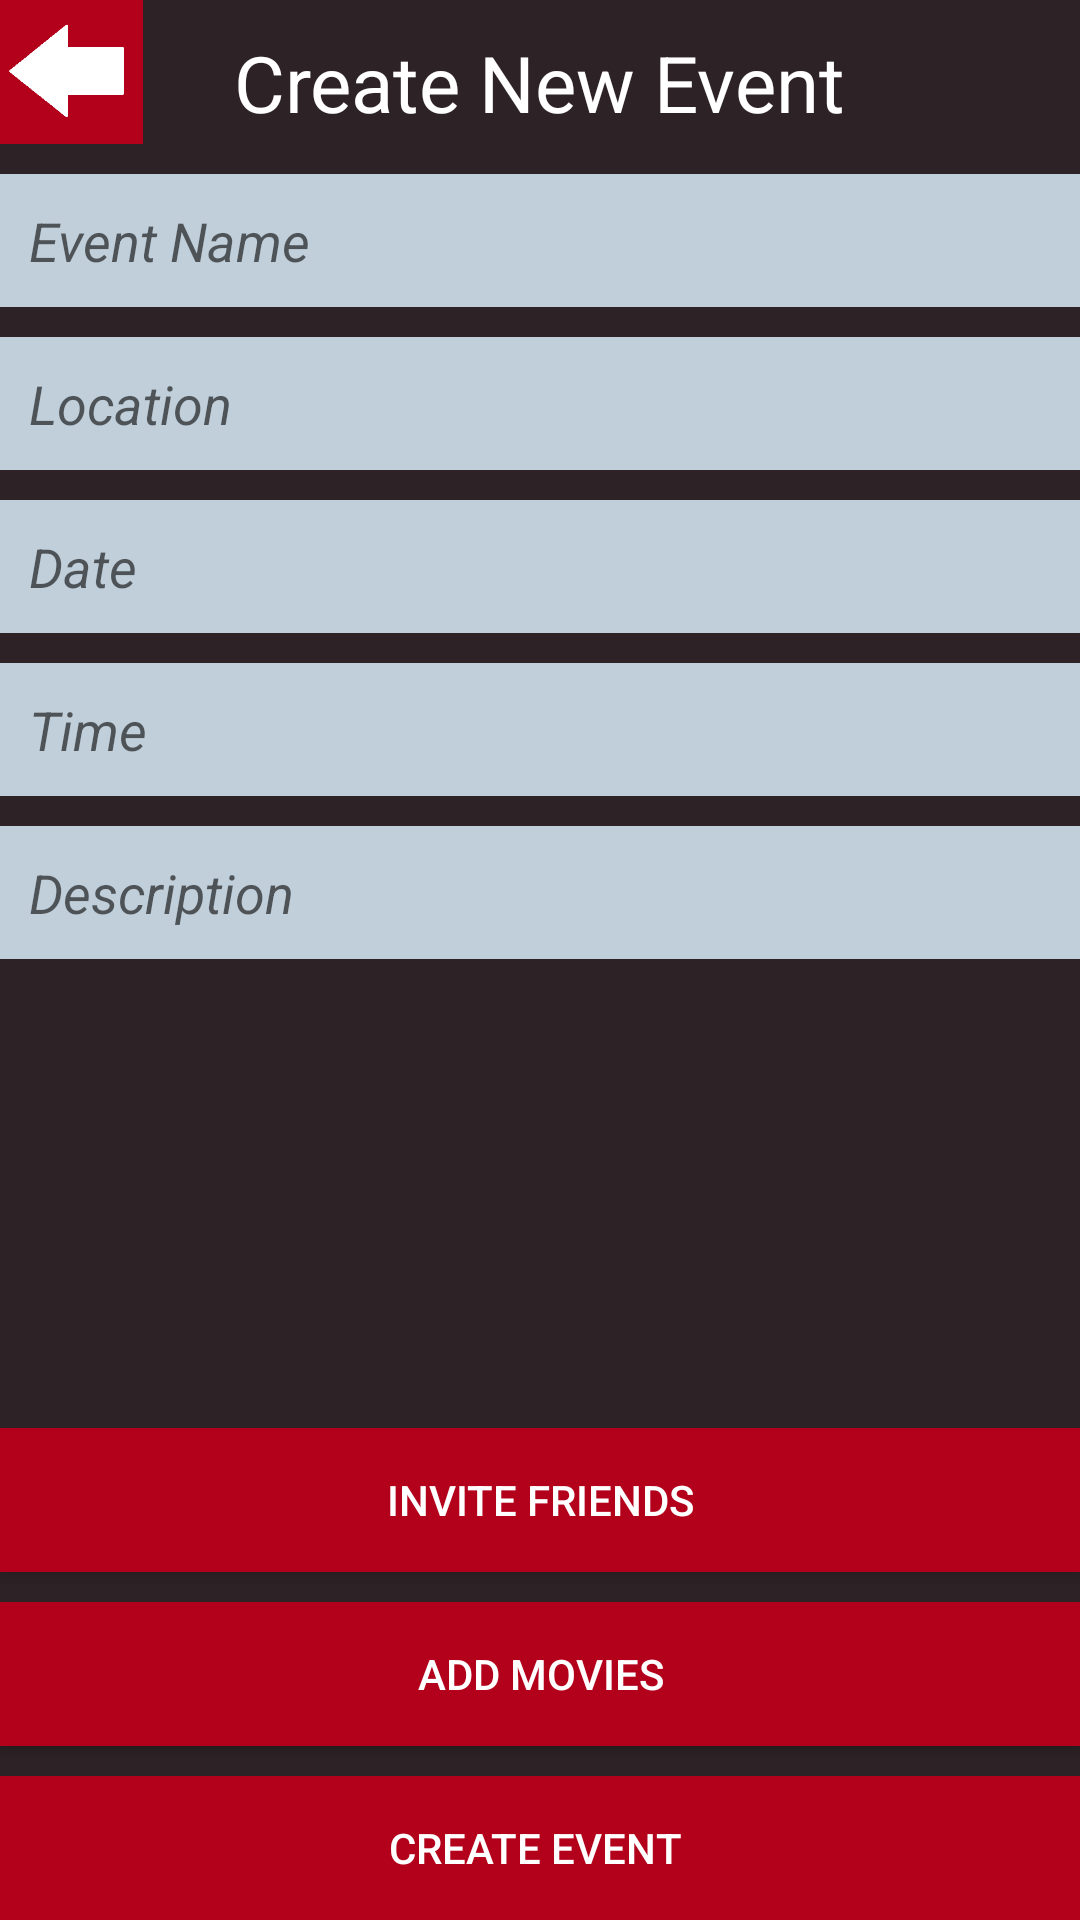

Where to tap for icons on this 1080×1920 app screen, as point (x, y):
back: point (71, 72)
